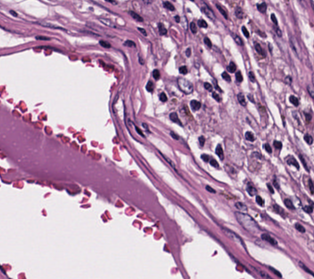nucleus: (222, 228, 246, 250), (235, 212, 260, 233), (178, 78, 192, 93), (261, 233, 276, 244), (170, 112, 181, 124), (163, 156, 174, 168), (268, 267, 281, 277), (255, 43, 264, 56), (215, 144, 223, 158), (190, 100, 200, 110), (246, 185, 256, 195), (273, 205, 284, 214), (237, 93, 245, 105), (134, 126, 143, 136), (235, 202, 246, 210), (245, 131, 254, 140), (234, 35, 242, 45), (99, 40, 110, 47), (228, 61, 235, 72), (235, 71, 242, 82), (222, 72, 230, 81), (170, 131, 179, 139), (204, 37, 211, 47), (248, 71, 255, 81), (146, 81, 153, 91), (256, 195, 263, 205), (258, 271, 269, 277), (159, 92, 166, 101), (264, 143, 271, 152), (209, 159, 218, 166), (206, 185, 215, 192), (124, 40, 134, 46), (153, 69, 159, 79), (179, 66, 187, 73), (204, 82, 211, 90), (273, 141, 281, 148), (201, 154, 209, 161), (273, 179, 279, 188), (267, 184, 273, 193), (213, 93, 220, 100), (199, 136, 204, 144), (36, 36, 49, 39), (186, 48, 190, 56), (249, 95, 253, 101), (143, 123, 147, 129)
